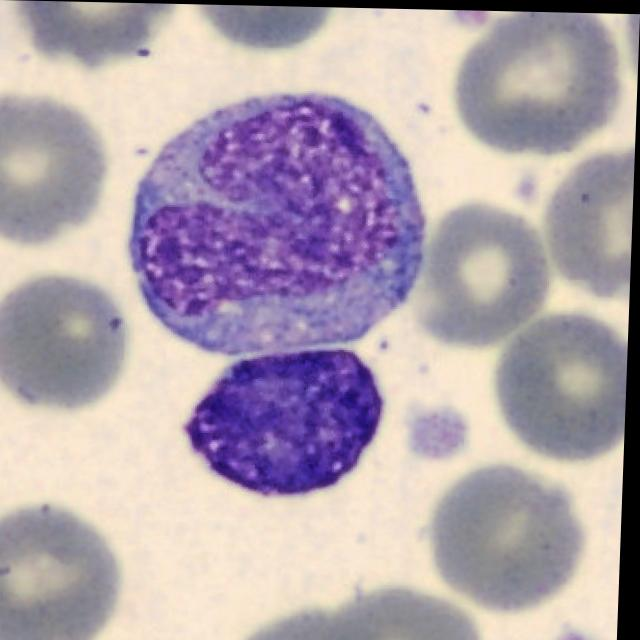Linfocito: (186, 346, 388, 495)
Monocito: (130, 92, 428, 356)
